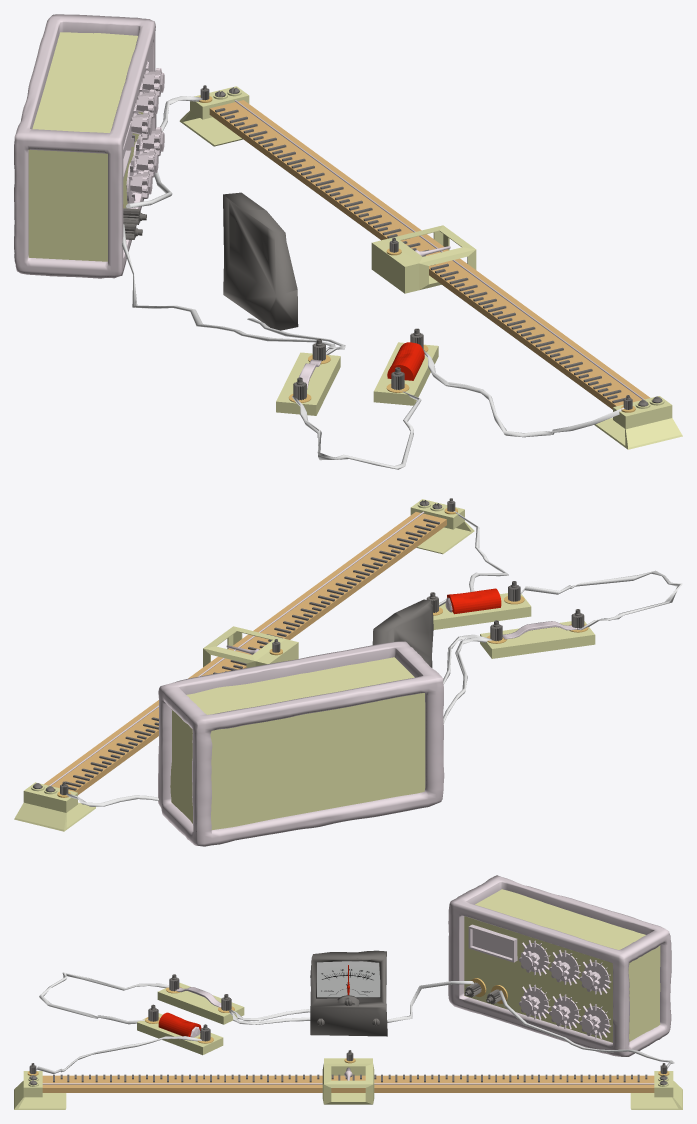
File: ustanovkaWithLnks.fbx
3 renders of one model, top to bottom at view 1: azimuth 30°, elevation 25°; view 2: azimuth 150°, elevation 25°; view 3: azimuth 270°, elevation 25°, orthographic. The views are drawn at different scales.
Visible parts, largest first — view 1: Магазин_емкостей_тело.003, Магазин_емкостей_тело.002, Реохорд.001, Cube.007, Cylinder.018, Cube.009, Cube.008, Cube.010, Cube.013, Cylinder.032, Cylinder.034, Cylinder.033 (+5 smaller); view 2: Магазин_емкостей_тело.003, Магазин_емкостей_тело.002, Реохорд.001, Cylinder.018, Cube.009, Cube.007, Cube.010, Cube.008, Cube.013, Cylinder.033, Cylinder.025, Cylinder.017 (+1 smaller); view 3: Магазин_емкостей_тело.002, Магазин_емкостей_тело.003, Реохорд.001, Cube.007, Cylinder.018, Plane.001, Cube.008, Cube.009, Cube.010, Cube.006, Cylinder.017, Cube.013 (+13 smaller).
Part boxes in pixels (left/top/right/bottom): Магазин_емкостей_тело.003: left=28, top=32, right=143, bottom=261; Магазин_емкостей_тело.002: left=14, top=14, right=156, bottom=278; Реохорд.001: left=209, top=100, right=650, bottom=409; Cube.007: left=223, top=192, right=298, bottom=330; Cylinder.018: left=179, top=85, right=682, bottom=449; Cube.009: left=215, top=108, right=630, bottom=403; Cube.008: left=371, top=225, right=476, bottom=293; Cube.010: left=276, top=352, right=340, bottom=415; Cube.013: left=373, top=342, right=438, bottom=405; Cylinder.032: left=423, top=349, right=624, bottom=437; Cylinder.034: left=122, top=224, right=335, bottom=351; Cylinder.033: left=292, top=390, right=421, bottom=469; Магазин_емкостей_тело.003: left=170, top=657, right=425, bottom=829; Магазин_емкостей_тело.002: left=158, top=641, right=444, bottom=846; Реохорд.001: left=44, top=512, right=446, bottom=794; Cylinder.018: left=14, top=498, right=474, bottom=831; Cube.009: left=65, top=518, right=439, bottom=790; Cube.007: left=372, top=599, right=433, bottom=667; Cube.010: left=480, top=621, right=595, bottom=658; Cube.008: left=203, top=626, right=298, bottom=667; Cube.013: left=433, top=593, right=531, bottom=629; Cylinder.033: left=520, top=570, right=682, bottom=630; Cylinder.025: left=447, top=588, right=501, bottom=614; Cylinder.017: left=49, top=511, right=424, bottom=785; Магазин_емкостей_тело.002: left=448, top=875, right=671, bottom=1056; Магазин_емкостей_тело.003: left=464, top=889, right=660, bottom=1042; Реохорд.001: left=42, top=1075, right=654, bottom=1092; Cube.007: left=310, top=950, right=387, bottom=1036; Cylinder.018: left=14, top=1063, right=682, bottom=1109; Plane.001: left=317, top=961, right=380, bottom=997; Cube.008: left=322, top=1058, right=374, bottom=1104; Cube.009: left=53, top=1074, right=647, bottom=1082; Cube.010: left=157, top=982, right=244, bottom=1024; Cube.006: left=468, top=924, right=517, bottom=962; Cylinder.017: left=42, top=1083, right=654, bottom=1084; Cube.013: left=137, top=1013, right=223, bottom=1055.
Bounding box in the file's own units: 11.36 × 4.75 × 25.38.
7 materials, 1 textured.
